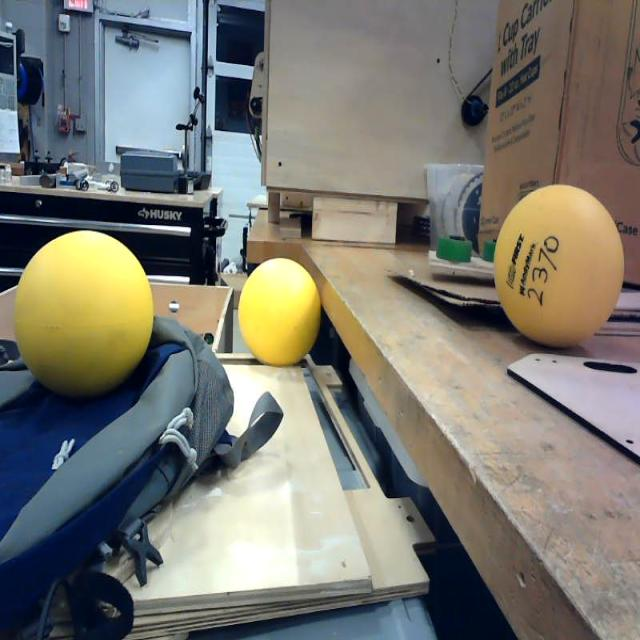Fuel: (15, 231, 154, 401), (494, 185, 624, 348), (238, 258, 321, 365)
